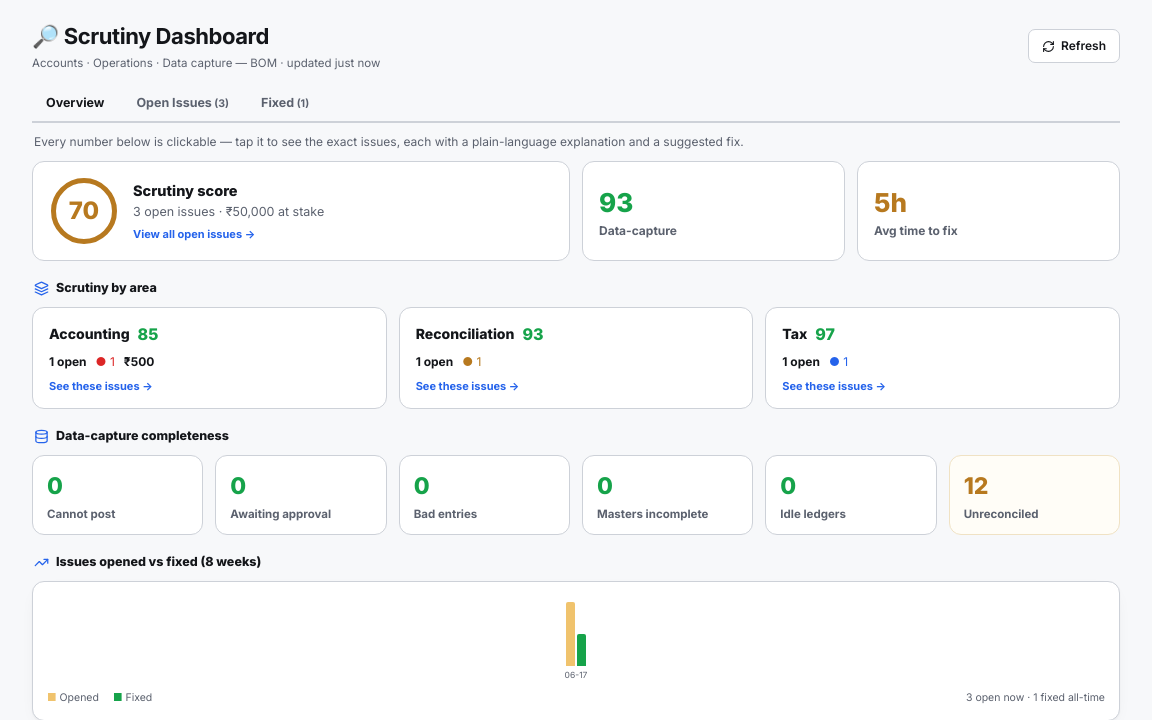
Test case: Scrutiny Dashboard › severity KPI strip filters the Open list
Click the button "Open Issues (3)".
click(183, 105)  # box [122,86,243,123]
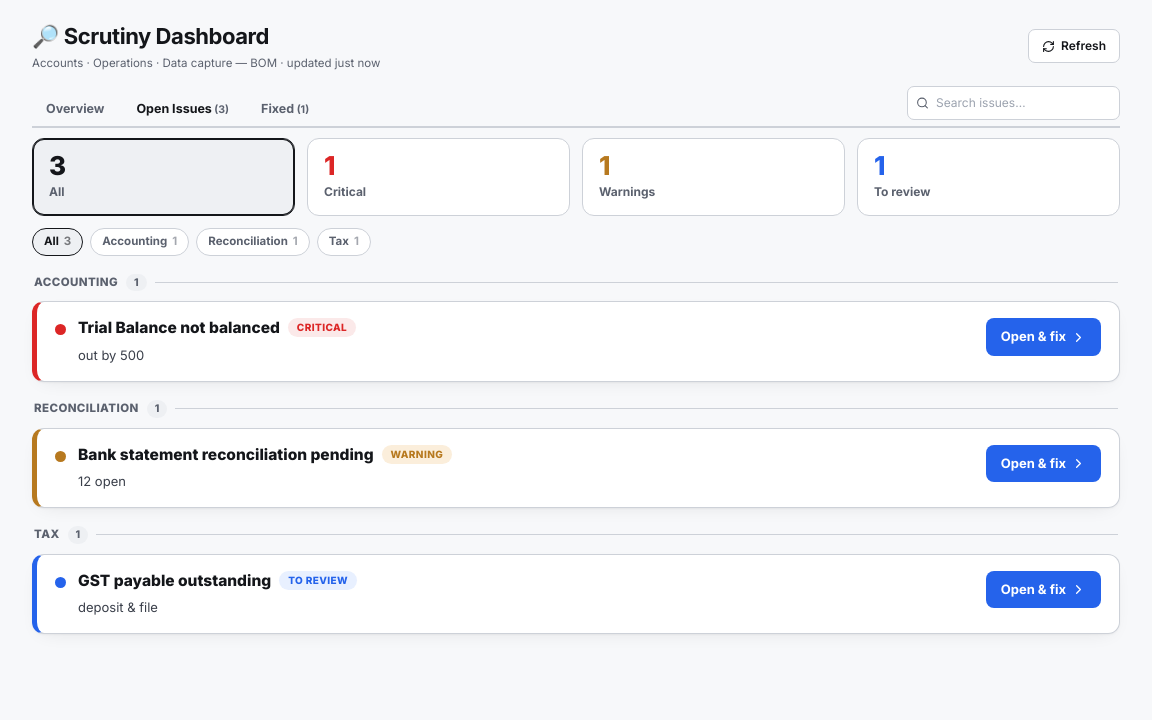
Click the button "1 Critical".
click(345, 192)  # box [307,138,570,216]
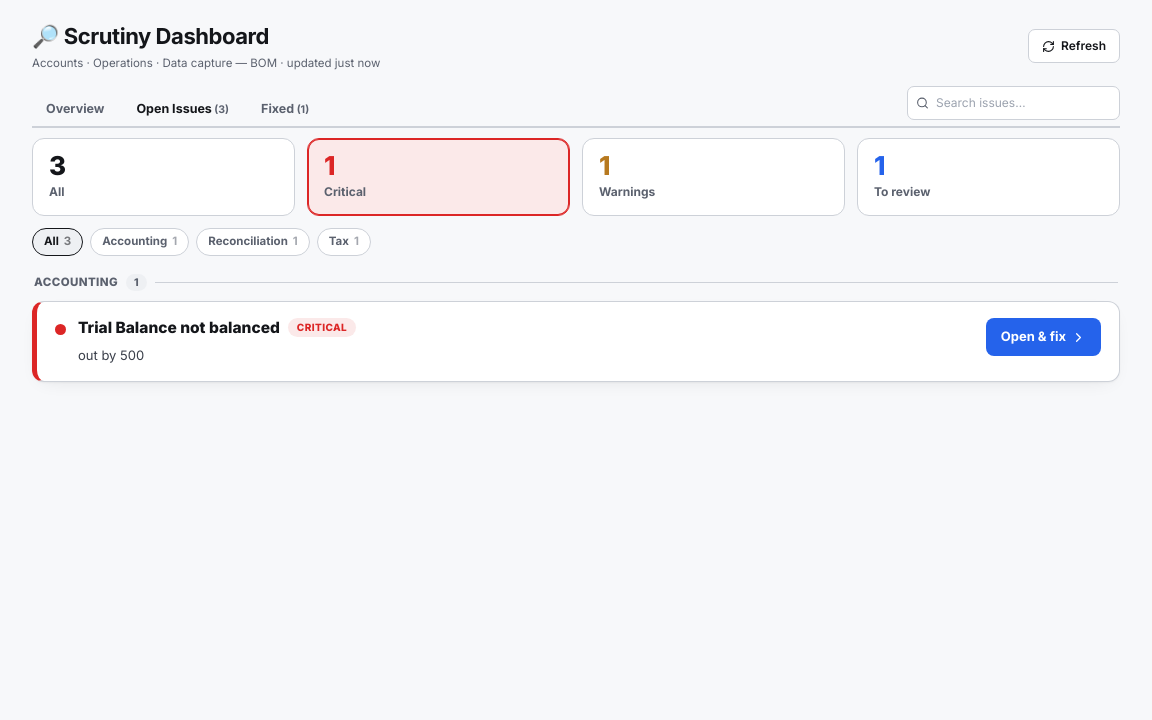
expect the text "Trial Balance not balanced" is shown: met, box [78,318,280,338]
expect the text "GST payable outstanding" is gone: met
